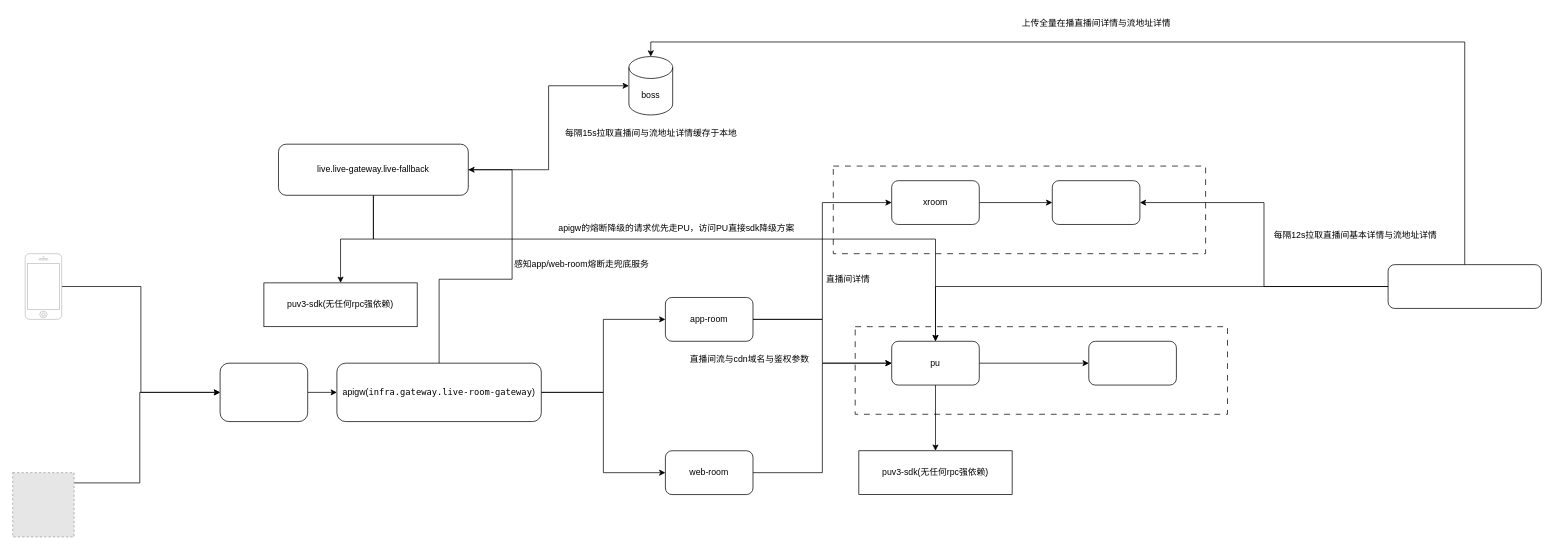
Image size: 1554x550. Some labels were removed from this diagram. Grey dashed boxes stand in for pictures. The shapes that lost their labels are listed below. From the top down, each one's centre as x and y in pixels, then its label:
At point (1096, 202): "dao-anchor".
At point (1464, 286): "live.live-gateway.allliving-job".
At point (1132, 363): "puv3".
At point (263, 392): "slb(api.bilibili.com)".
